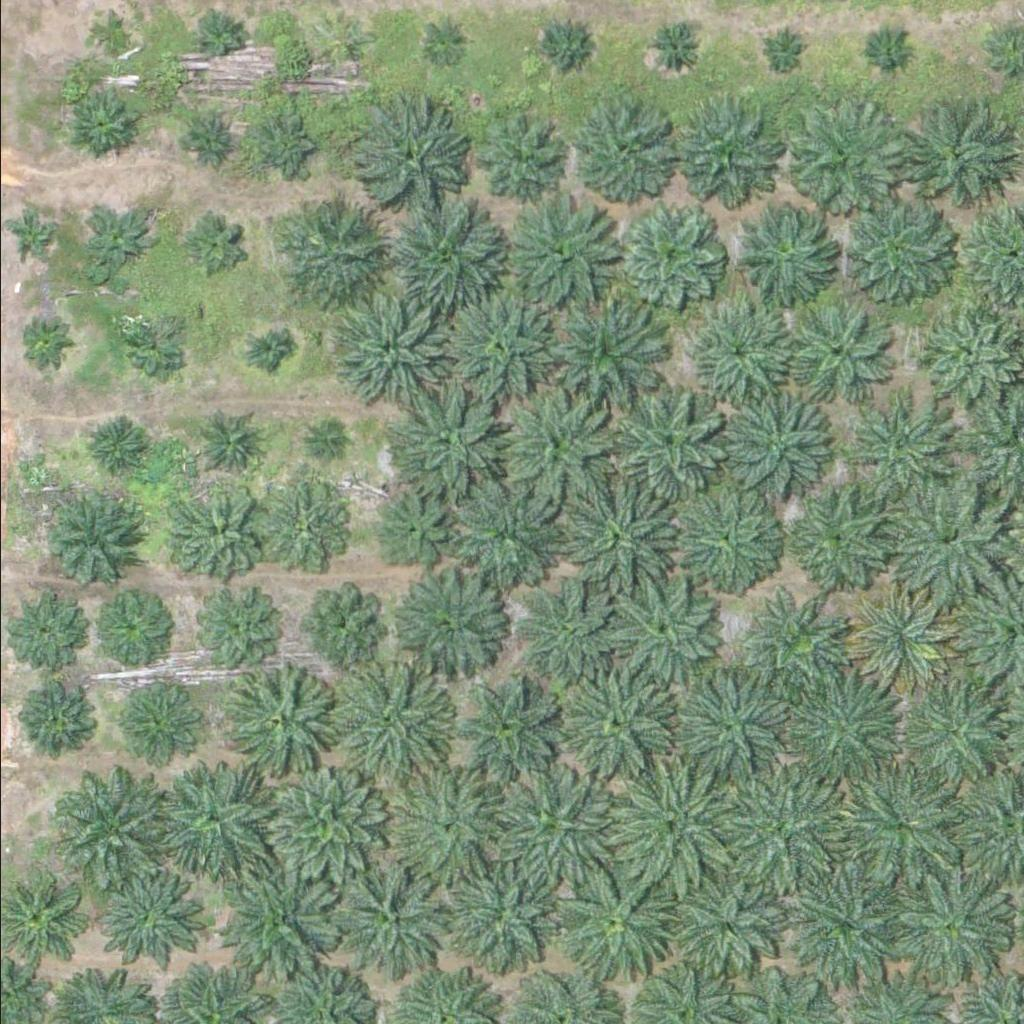Kelapa_Sawit: (539, 295, 665, 420), (345, 93, 471, 218), (834, 762, 960, 887), (715, 768, 841, 893), (613, 762, 738, 887), (443, 290, 557, 403), (498, 200, 612, 313), (894, 865, 1008, 978), (613, 198, 727, 311), (781, 102, 895, 215), (556, 870, 669, 983), (451, 860, 564, 973), (333, 857, 446, 970), (59, 770, 172, 883), (227, 660, 340, 773), (387, 563, 500, 676), (559, 481, 672, 594), (458, 467, 571, 580), (335, 288, 448, 401), (393, 201, 506, 314), (278, 192, 391, 305), (670, 870, 783, 983), (789, 872, 902, 985), (906, 100, 1019, 213), (840, 581, 953, 694), (607, 578, 720, 691), (887, 483, 1000, 596), (782, 479, 895, 592), (837, 192, 950, 305), (397, 381, 511, 493), (662, 95, 776, 207), (229, 866, 342, 978), (83, 862, 196, 974), (502, 769, 615, 881), (393, 767, 506, 879), (274, 765, 387, 877), (159, 761, 272, 873), (337, 663, 450, 775), (500, 392, 613, 504), (896, 678, 1009, 790), (787, 668, 900, 780), (676, 668, 789, 780), (564, 667, 677, 779), (842, 391, 955, 503), (610, 387, 723, 499), (452, 677, 553, 777), (40, 486, 141, 586), (912, 307, 1013, 407), (674, 489, 775, 589), (729, 396, 830, 496), (780, 304, 881, 404), (577, 101, 678, 201), (688, 305, 788, 405), (734, 209, 834, 309), (262, 481, 350, 569), (168, 489, 256, 577), (473, 111, 561, 199), (749, 599, 838, 686), (115, 675, 203, 762), (518, 586, 606, 673), (304, 589, 380, 664), (11, 683, 87, 758), (189, 591, 265, 666), (7, 594, 83, 669), (371, 487, 447, 562), (64, 86, 139, 161), (82, 202, 157, 277), (97, 591, 160, 654), (79, 415, 142, 478), (124, 310, 187, 373), (642, 15, 705, 78), (251, 114, 314, 176), (182, 218, 245, 280), (530, 12, 593, 74), (14, 316, 65, 366), (185, 120, 236, 170), (5, 209, 56, 259), (425, 18, 476, 68), (328, 17, 379, 67), (199, 7, 250, 57), (863, 23, 914, 73), (207, 418, 257, 468), (84, 11, 134, 61), (756, 27, 806, 77), (308, 426, 346, 464), (246, 331, 284, 368)
